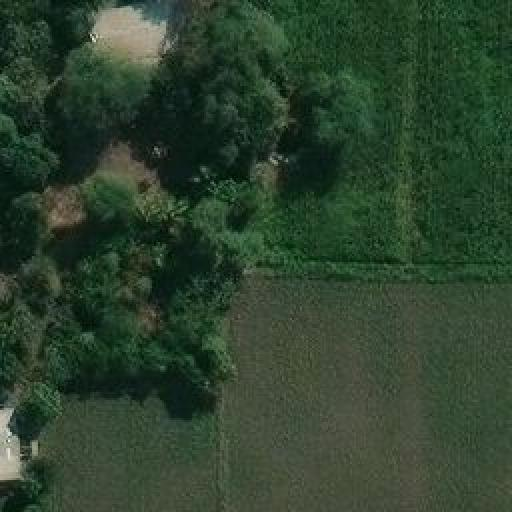manzanas: (0, 408, 40, 483)
